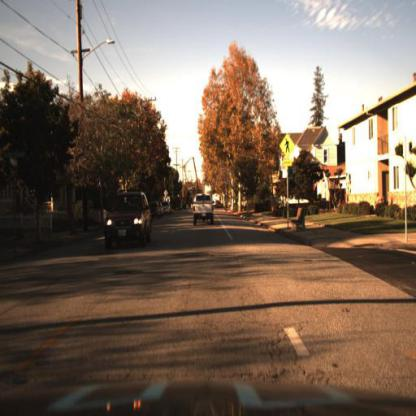car: (100, 187, 153, 255), (103, 189, 153, 246), (194, 196, 215, 226), (162, 197, 174, 220), (150, 200, 159, 221), (158, 200, 166, 220)
